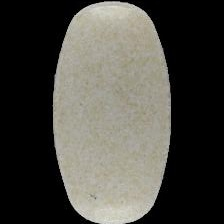44523-415: (0, 0, 224, 224)
